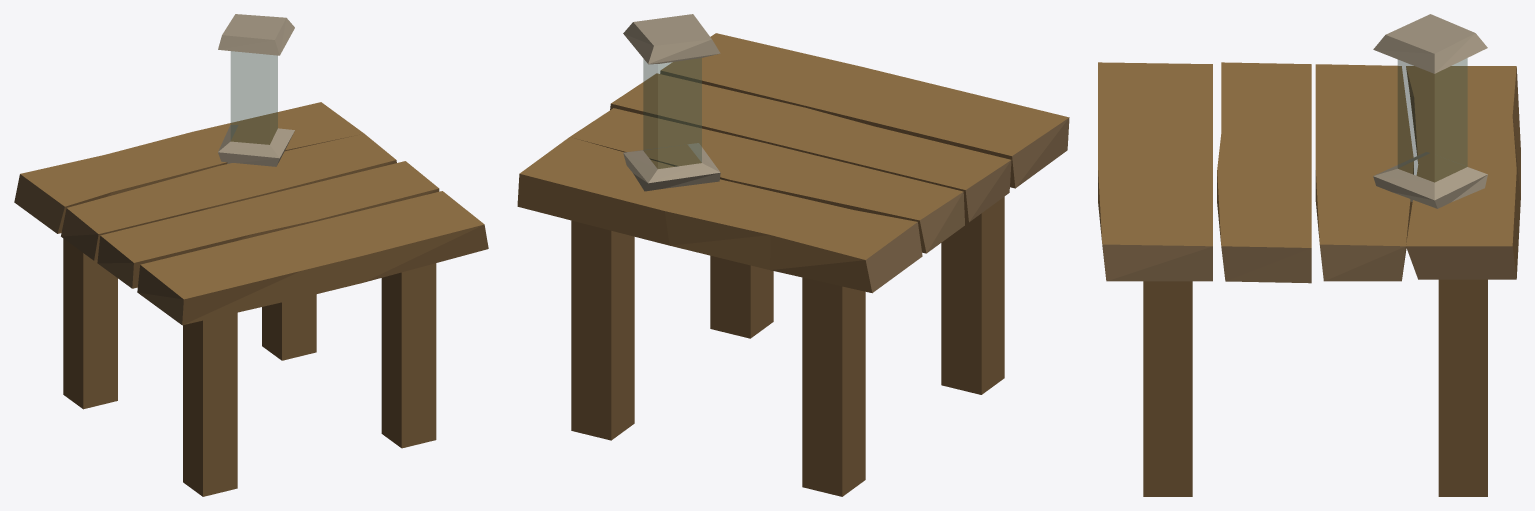
3 views of the same model, side by side, from view 1: azimuth 30°, elevation 25°; view 2: azimuth 150°, elevation 25°; view 3: azimuth 270°, elevation 25° (orthographic). The views are drawn at different scales.
Bounding box in the file's own units: 108 × 114 × 103.
Materials: 2 (2 with a texture image).
